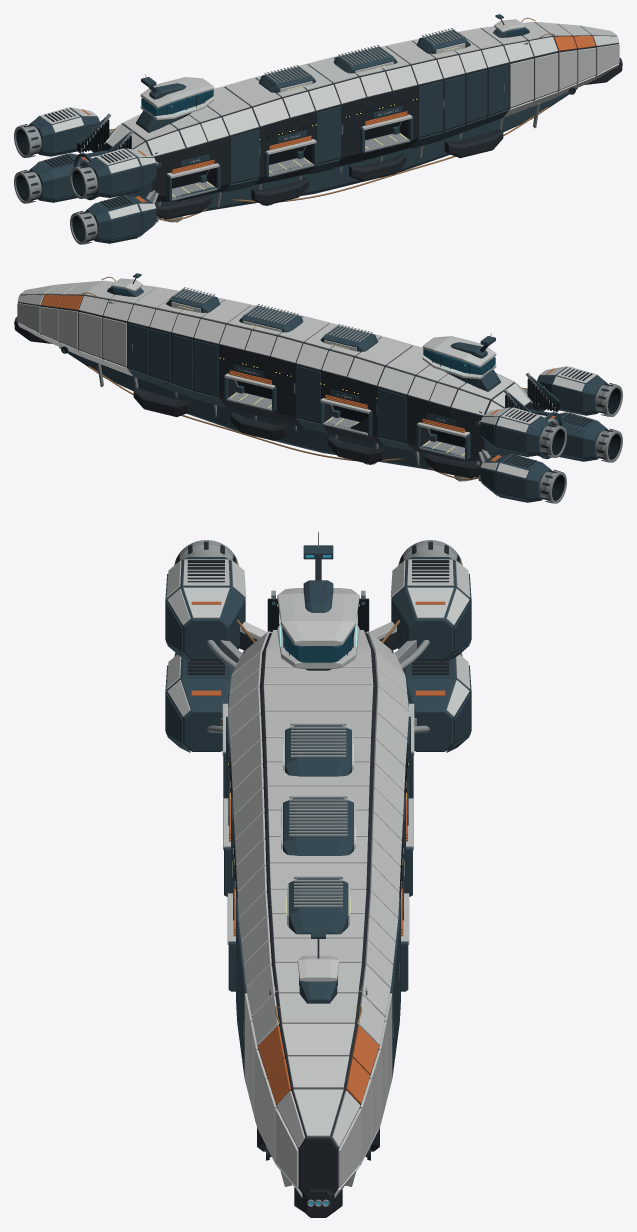
File: vesper.glb
3 views of the same model, one above another, from view 1: azimuth 30°, elevation 25°; view 2: azimuth 150°, elevation 25°; view 3: azimuth 270°, elevation 25° (orthographic). The views are drawn at different scales.
Visible parts, largest first — view 1: Capital pressure hull / ten changing sections, Long ventral armored keel, Propulsor 1_1 nacelle, Propulsor 1_-1 nacelle, Capital armor 3_5_0, Capital armor 5_5_2, Capital armor 4_5_1, Propulsor -1_-1 nacelle, Capital armor 6_5_0, Capital armor 6_5_1, Capital armor 7_5_0, Bridge cantilevered roof (+53 smaller); view 2: Capital pressure hull / ten changing sections, Long ventral armored keel, Propulsor -1_1 nacelle, Propulsor -1_-1 nacelle, Capital armor 3_1_0, Capital armor 5_1_2, Capital armor 4_1_1, Propulsor 1_-1 nacelle, Capital armor 6_1_0, Capital armor 6_1_1, Capital armor 7_1_0, Bridge cantilevered roof (+52 smaller); view 3: Capital pressure hull / ten changing sections, Bridge cantilevered roof, Propulsor -1_-1 nacelle, Propulsor 1_-1 nacelle, Propulsor -1_1 nacelle, Propulsor 1_1 nacelle, Capital armor 3_7_0, Capital dorsal machinery deck.001, Capital dorsal machinery deck.002, Capital dorsal machinery deck, Capital armor 8_7_0, Capital armor 7_7_1 (+24 smaller).
Part boxes in pixels (box(x1,y1,x2,y2)): Capital pressure hull / ten changing sections: box(102, 35, 618, 202); Long ventral armored keel: box(155, 88, 577, 218); Propulsor 1_1 nacelle: box(29, 108, 99, 156); Propulsor 1_-1 nacelle: box(29, 153, 83, 202); Capital armor 3_5_0: box(230, 129, 259, 183); Capital armor 5_5_2: box(418, 81, 443, 137); Capital armor 4_5_1: box(316, 106, 340, 163); Propulsor -1_-1 nacelle: box(85, 195, 156, 243); Capital armor 6_5_0: box(444, 75, 465, 130); Capital armor 6_5_1: box(466, 70, 487, 122); Capital armor 7_5_0: box(510, 58, 533, 107); Bridge cantilevered roof: box(140, 77, 214, 108); Capital pressure hull / ten changing sections: box(18, 294, 534, 461); Long ventral armored keel: box(59, 347, 481, 477); Propulsor -1_1 nacelle: box(537, 367, 607, 415); Propulsor -1_-1 nacelle: box(553, 412, 607, 461); Capital armor 3_1_0: box(377, 388, 406, 442); Capital armor 5_1_2: box(193, 340, 218, 396); Capital armor 4_1_1: box(296, 365, 320, 422); Propulsor 1_-1 nacelle: box(480, 454, 551, 502); Capital armor 6_1_0: box(171, 334, 192, 389); Capital armor 6_1_1: box(149, 329, 170, 381); Capital armor 7_1_0: box(103, 317, 126, 366); Bridge cantilevered roof: box(422, 336, 496, 367); Capital pressure hull / ten changing sections: box(230, 633, 406, 1193); Bridge cantilevered roof: box(277, 588, 359, 646); Propulsor -1_-1 nacelle: box(167, 657, 233, 751); Propulsor 1_-1 nacelle: box(403, 657, 469, 751); Propulsor -1_1 nacelle: box(167, 557, 245, 660); Propulsor 1_1 nacelle: box(391, 557, 469, 660); Capital armor 3_7_0: box(263, 685, 373, 711); Capital dorsal machinery deck.001: box(283, 798, 353, 855); Capital dorsal machinery deck.002: box(288, 879, 348, 934); Capital dorsal machinery deck: box(285, 725, 351, 776); Capital armor 8_7_0: box(282, 1024, 354, 1056); Capital armor 7_7_1: box(278, 993, 358, 1023).
Size of the model in its own units: 353 by 93.52 by 82.
